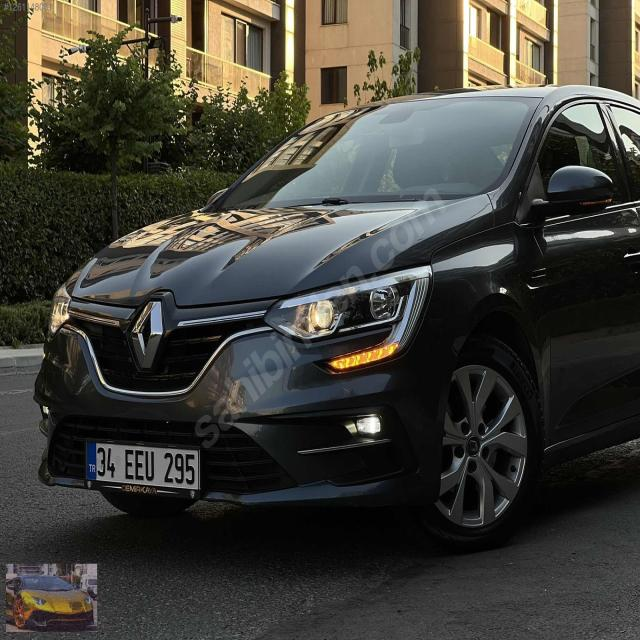renault: (125, 300, 169, 375)
